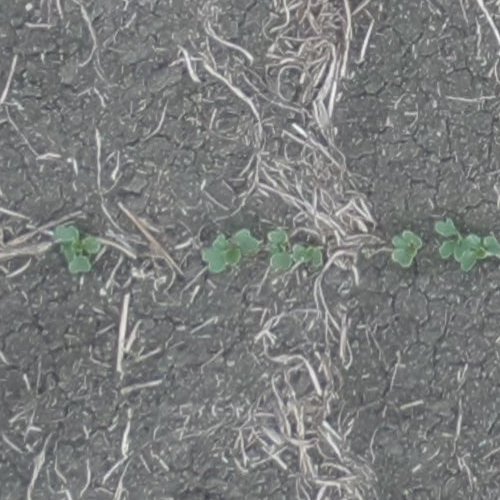plant: (262, 226, 328, 274), (436, 219, 499, 266), (202, 230, 258, 274), (55, 227, 99, 273), (387, 229, 423, 271)
